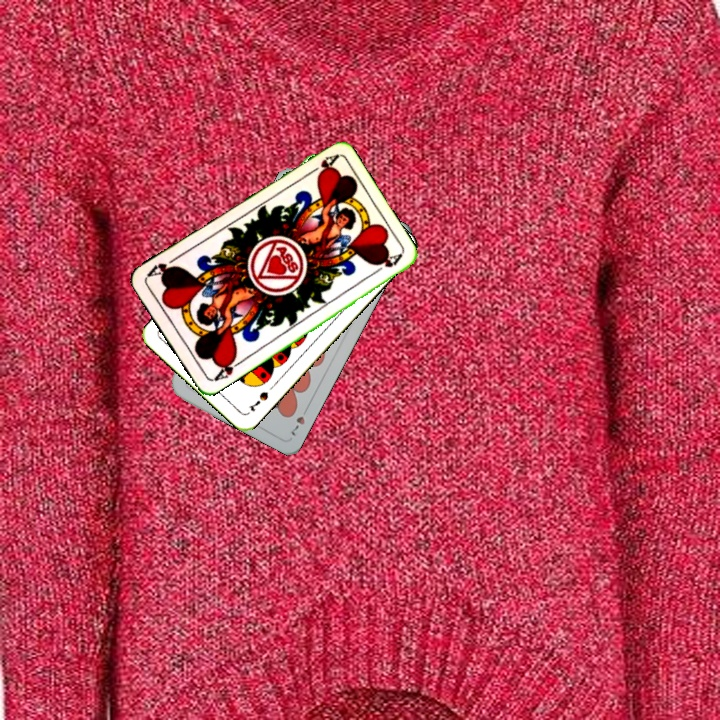H7: (287, 402, 311, 439)
HA: (209, 352, 246, 384), (302, 151, 340, 180)
S7: (244, 387, 271, 414)
